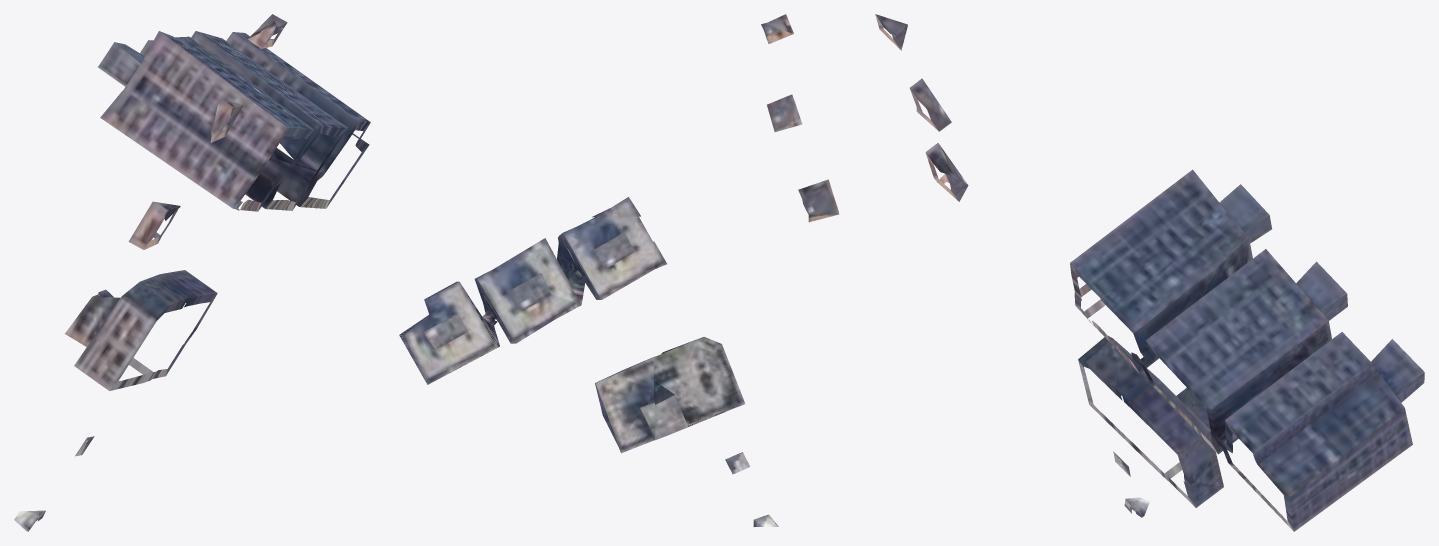
The picture shows the model from 3 angles, left to right: view 1: azimuth 30°, elevation 25°; view 2: azimuth 150°, elevation 25°; view 3: azimuth 270°, elevation 25°; orthographic projection. The views are drawn at different scales.
Bounding box in the file's own units: 90.18 × 115 × 103.
1 material, 1 textured.
